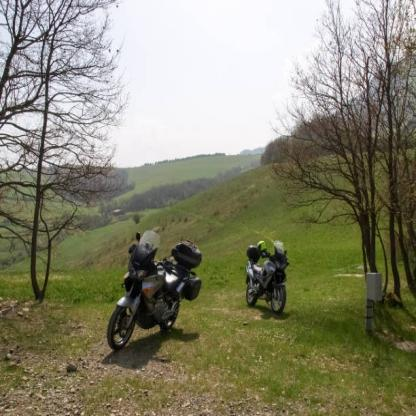Motorcycle: (105, 223, 205, 362), (239, 229, 294, 322)
